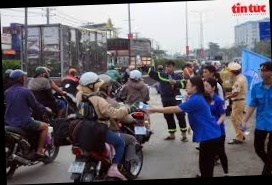Bien-so: (62, 165, 83, 181), (132, 128, 146, 138)
